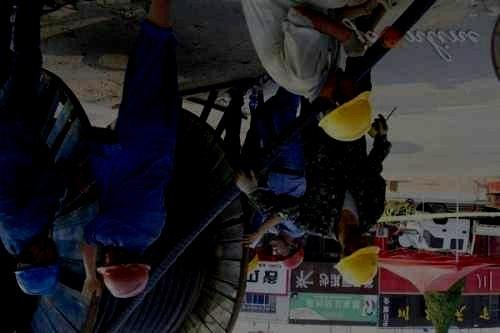helmet: (314, 66, 374, 142), (96, 245, 151, 299), (14, 238, 63, 297), (332, 227, 380, 286), (270, 238, 305, 269)
